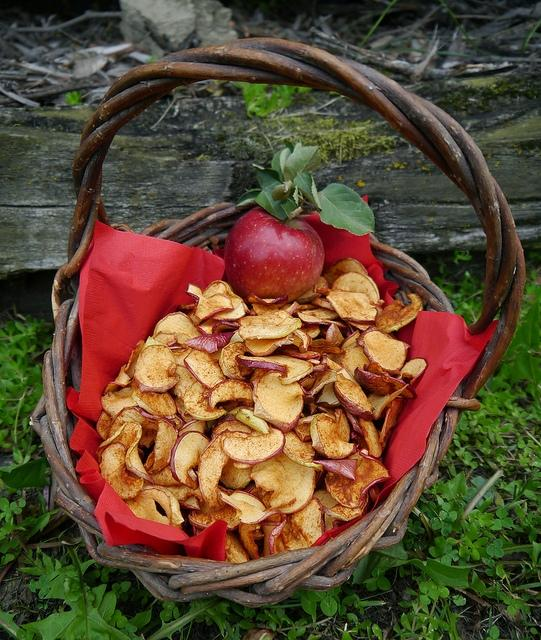apple: (223, 206, 324, 304), (196, 428, 250, 512), (248, 452, 316, 514), (324, 448, 392, 508), (94, 421, 154, 487), (252, 372, 313, 433), (107, 406, 186, 448), (183, 348, 256, 390), (221, 420, 286, 464), (356, 326, 412, 376), (132, 336, 180, 394), (124, 485, 184, 530), (234, 354, 314, 386), (310, 409, 360, 460), (100, 442, 142, 501), (216, 488, 282, 524), (170, 432, 211, 489), (239, 309, 302, 341), (333, 373, 375, 420), (331, 270, 385, 306), (376, 294, 424, 334), (202, 280, 246, 322), (185, 283, 234, 320), (154, 311, 208, 344), (282, 429, 323, 472), (183, 380, 226, 420), (188, 499, 240, 532), (326, 291, 378, 324), (292, 496, 326, 546), (318, 491, 370, 522), (207, 378, 254, 412), (367, 383, 410, 420), (320, 258, 368, 289), (152, 417, 178, 473), (313, 487, 346, 531), (242, 332, 294, 358), (130, 389, 178, 417), (100, 384, 136, 421), (335, 341, 370, 379), (379, 398, 404, 451), (308, 323, 346, 355), (354, 366, 394, 394), (184, 332, 234, 354), (219, 341, 246, 381), (346, 301, 382, 331), (294, 312, 347, 332), (311, 459, 358, 481), (220, 458, 252, 490), (358, 416, 382, 458), (260, 519, 286, 557), (395, 358, 428, 386), (102, 364, 130, 396), (236, 408, 270, 434), (228, 489, 266, 512), (239, 522, 261, 560), (211, 420, 252, 440), (124, 339, 145, 378), (146, 465, 183, 487), (174, 366, 197, 401), (225, 531, 250, 563), (246, 292, 288, 310), (309, 369, 338, 395), (294, 414, 320, 442), (314, 382, 342, 408), (196, 319, 239, 335), (166, 485, 204, 503), (294, 307, 340, 320), (174, 396, 194, 424), (178, 418, 208, 436), (292, 328, 310, 353), (284, 347, 319, 359), (172, 347, 192, 368), (248, 368, 266, 391), (151, 331, 178, 346), (340, 330, 360, 350), (233, 530, 266, 542), (364, 362, 390, 377), (178, 494, 202, 510), (222, 404, 254, 416), (320, 354, 343, 370), (312, 298, 336, 312), (298, 325, 321, 339), (176, 304, 194, 316), (314, 285, 334, 295), (346, 321, 358, 333), (315, 470, 325, 484), (137, 446, 145, 461)
